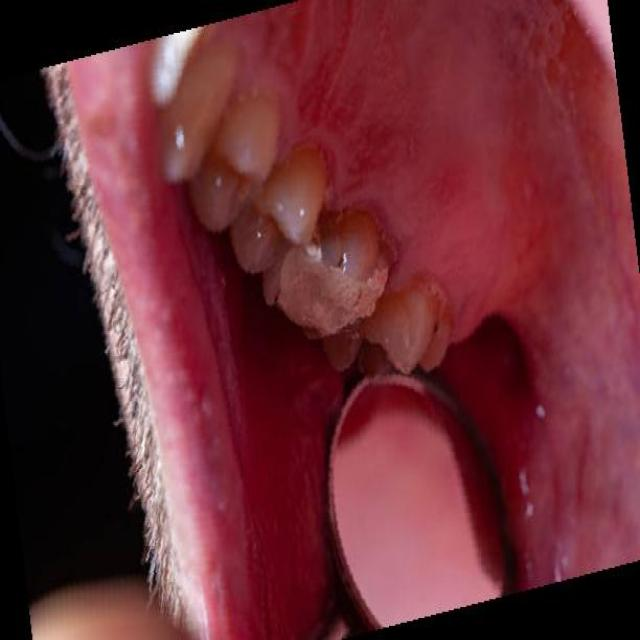caries: (279, 224, 375, 341)
